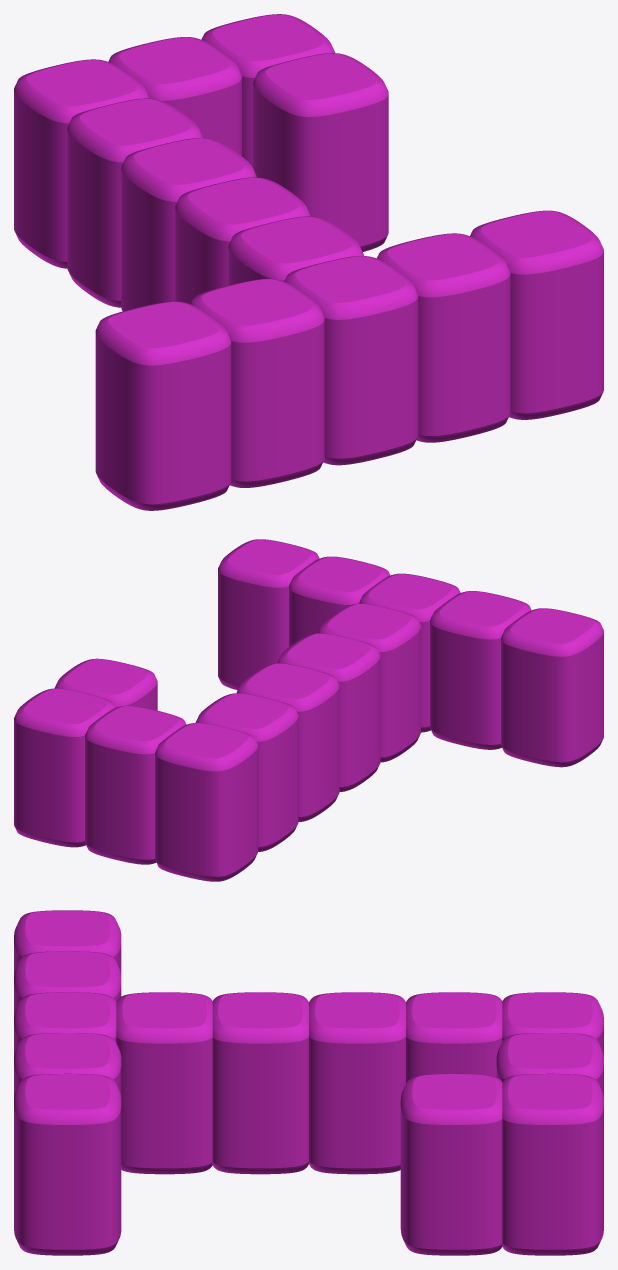
The model's file is Letter_J.fbx.
3 renders of one model, top to bottom at view 1: azimuth 30°, elevation 25°; view 2: azimuth 150°, elevation 25°; view 3: azimuth 270°, elevation 25°, orthographic. The views are drawn at different scales.
Parts seen in each view (by area): view 1: Letter_J; view 2: Letter_J; view 3: Letter_J.
Boxes of the visible parts, bbox=[...] form: Letter_J: bbox=[14, 14, 603, 510]; Letter_J: bbox=[14, 539, 603, 881]; Letter_J: bbox=[14, 910, 603, 1255].
Size of the model in its own units: 0.4311 by 0.14 by 0.5146.
